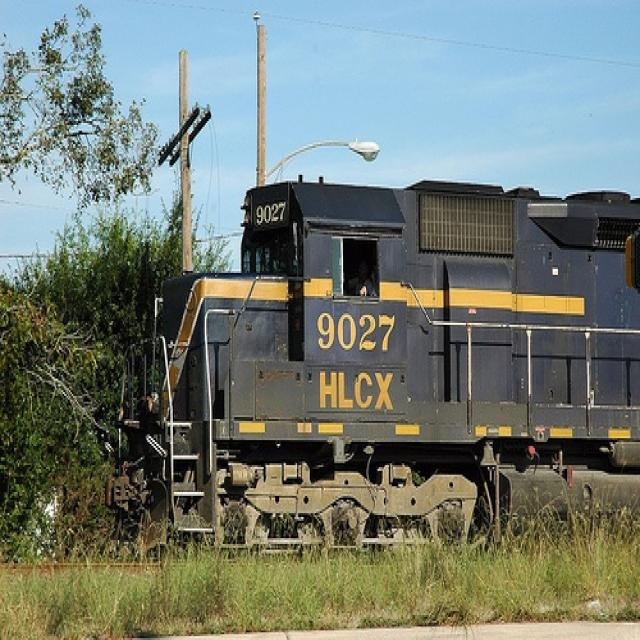train: (105, 169, 639, 554)
